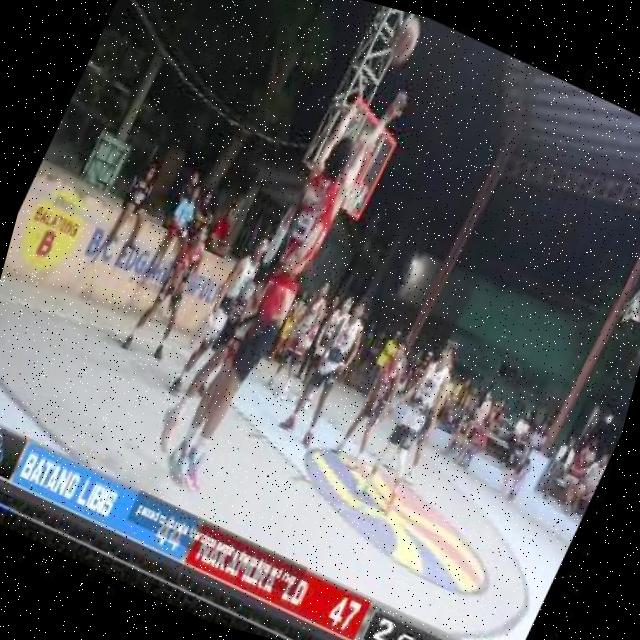ball: (376, 8, 429, 73)
